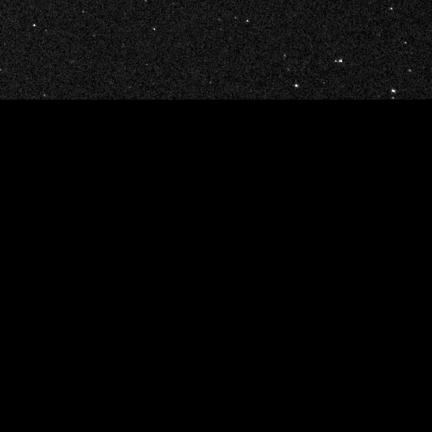blob: (295, 84, 299, 88), (392, 90, 395, 93), (33, 25, 36, 27)
